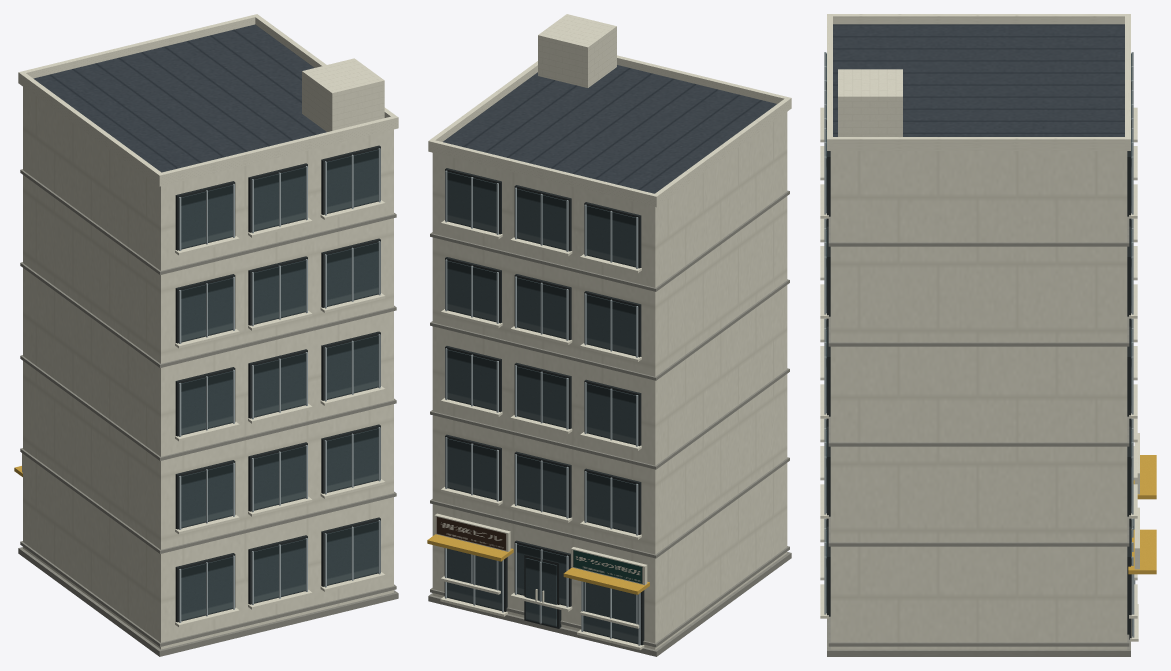
Rendered from shop_007.obj.
3 renders of one model, left to right at view 1: azimuth 30°, elevation 25°; view 2: azimuth 150°, elevation 25°; view 3: azimuth 270°, elevation 25°, orthographic. The views are drawn at different scales.
Parts seen in each view (by area): view 1: shop_007; view 2: shop_007; view 3: shop_007.
Boxes of the visible parts, bbox=[...] form: shop_007: bbox=[14, 14, 398, 656]; shop_007: bbox=[427, 14, 791, 656]; shop_007: bbox=[820, 14, 1156, 656].
Bounding box in the file's own units: 8.2 × 16.95 × 9.3.
1 material, 1 textured.
